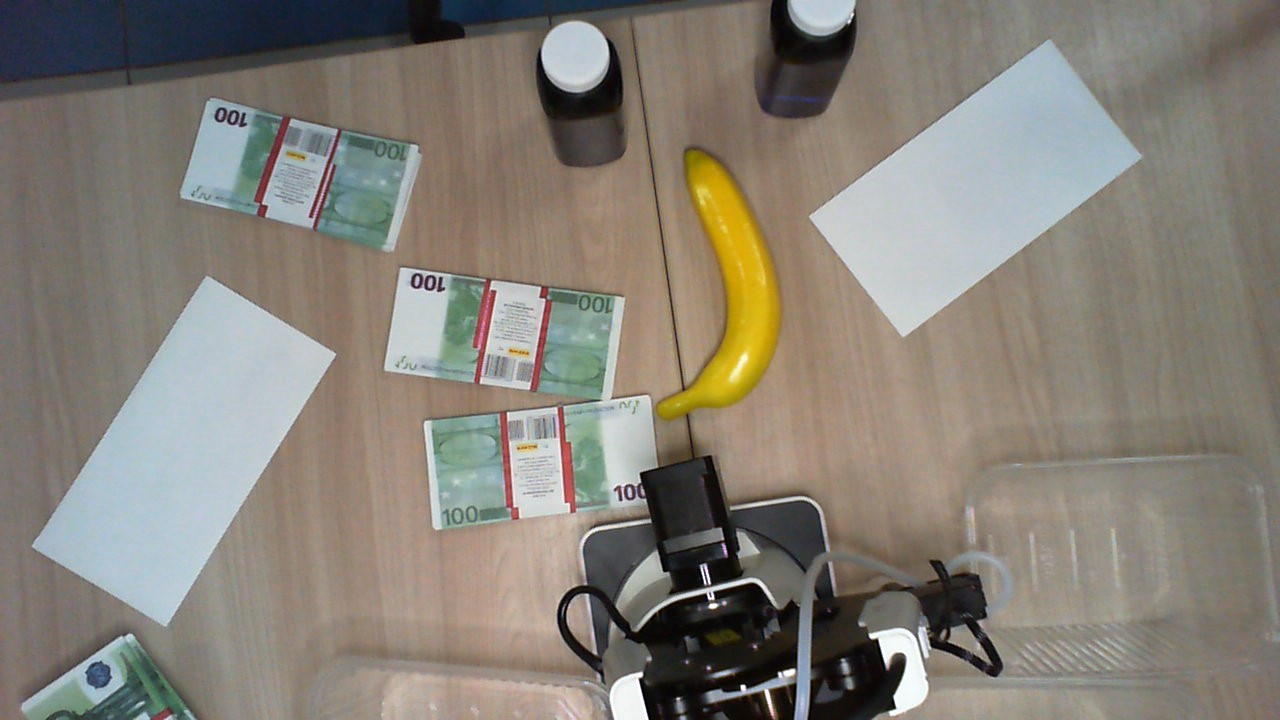banana: (657, 140, 783, 422)
bottle: (538, 21, 622, 116), (769, 1, 857, 66)
convert: (34, 274, 336, 627), (809, 35, 1145, 335)
money: (182, 97, 438, 255), (423, 393, 668, 534), (382, 270, 628, 394), (19, 630, 203, 720)
